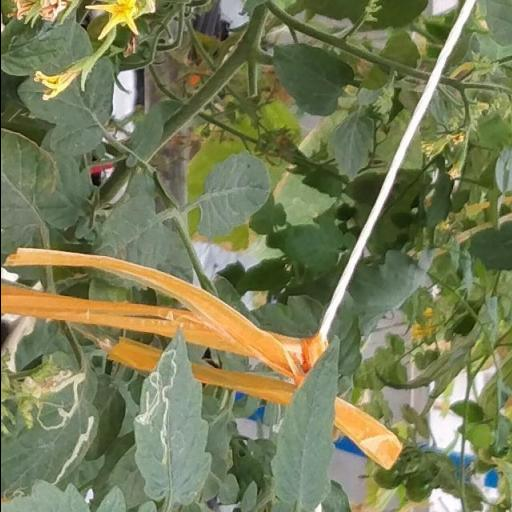Healthy: (267, 333, 344, 512), (194, 148, 274, 240), (270, 42, 356, 118)
Leaf Miner: (0, 350, 100, 502), (132, 330, 212, 504)
